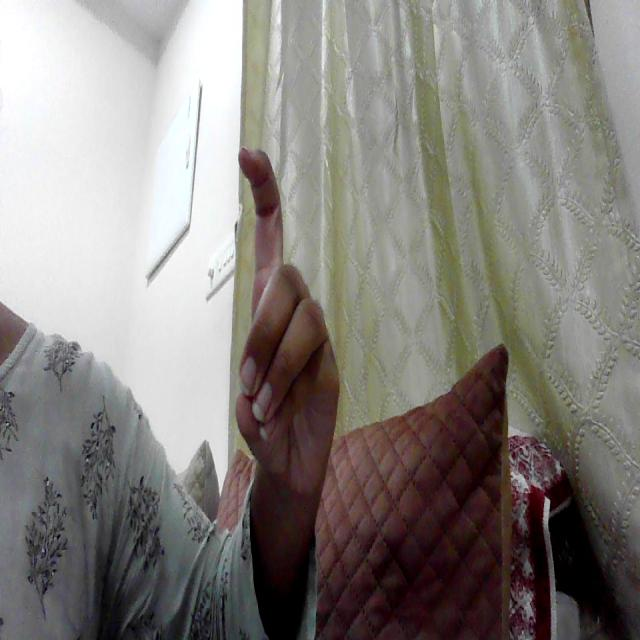Tamrachuda: (221, 114, 360, 521)
